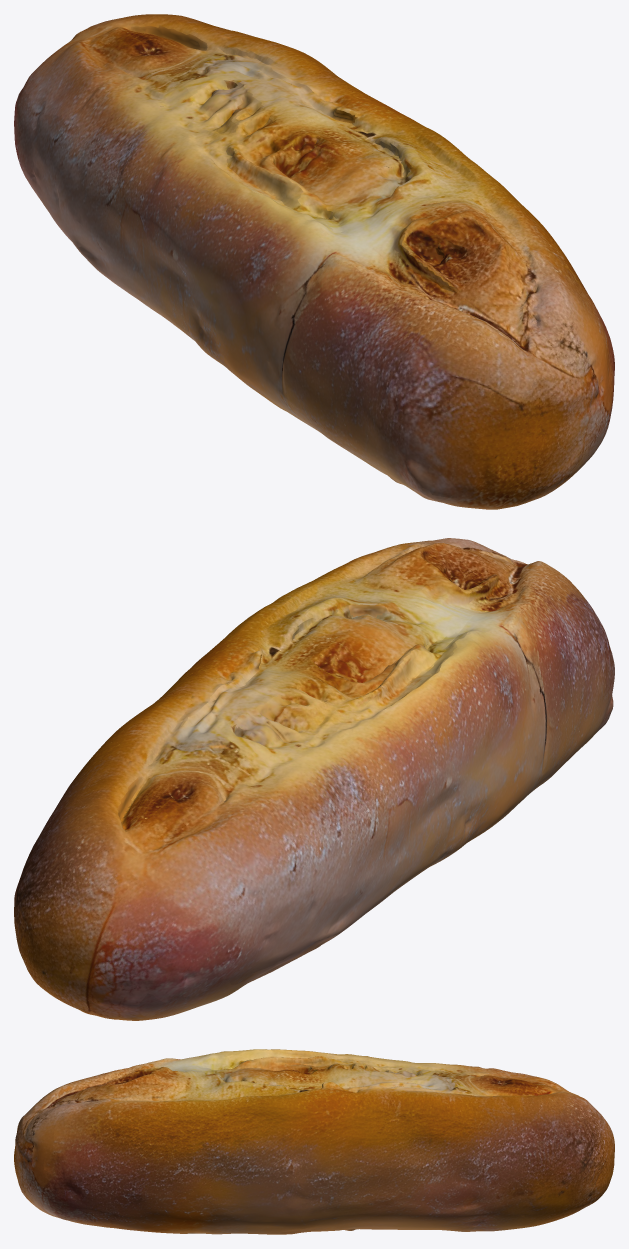
Rendered from iter_15.glb.
3 views of the same model, one above another, from view 1: azimuth 30°, elevation 25°; view 2: azimuth 150°, elevation 25°; view 3: azimuth 270°, elevation 25° (orthographic). The views are drawn at different scales.
Visible parts, largest first — view 1: textured_mesh; view 2: textured_mesh; view 3: textured_mesh.
Part boxes in pixels (bbox=[...]): textured_mesh: bbox=[14, 14, 614, 509]; textured_mesh: bbox=[14, 538, 614, 1020]; textured_mesh: bbox=[14, 1049, 614, 1234].
Size of the model in its own units: 0.6875 by 0.5603 by 1.99.
1 material, 1 textured.
